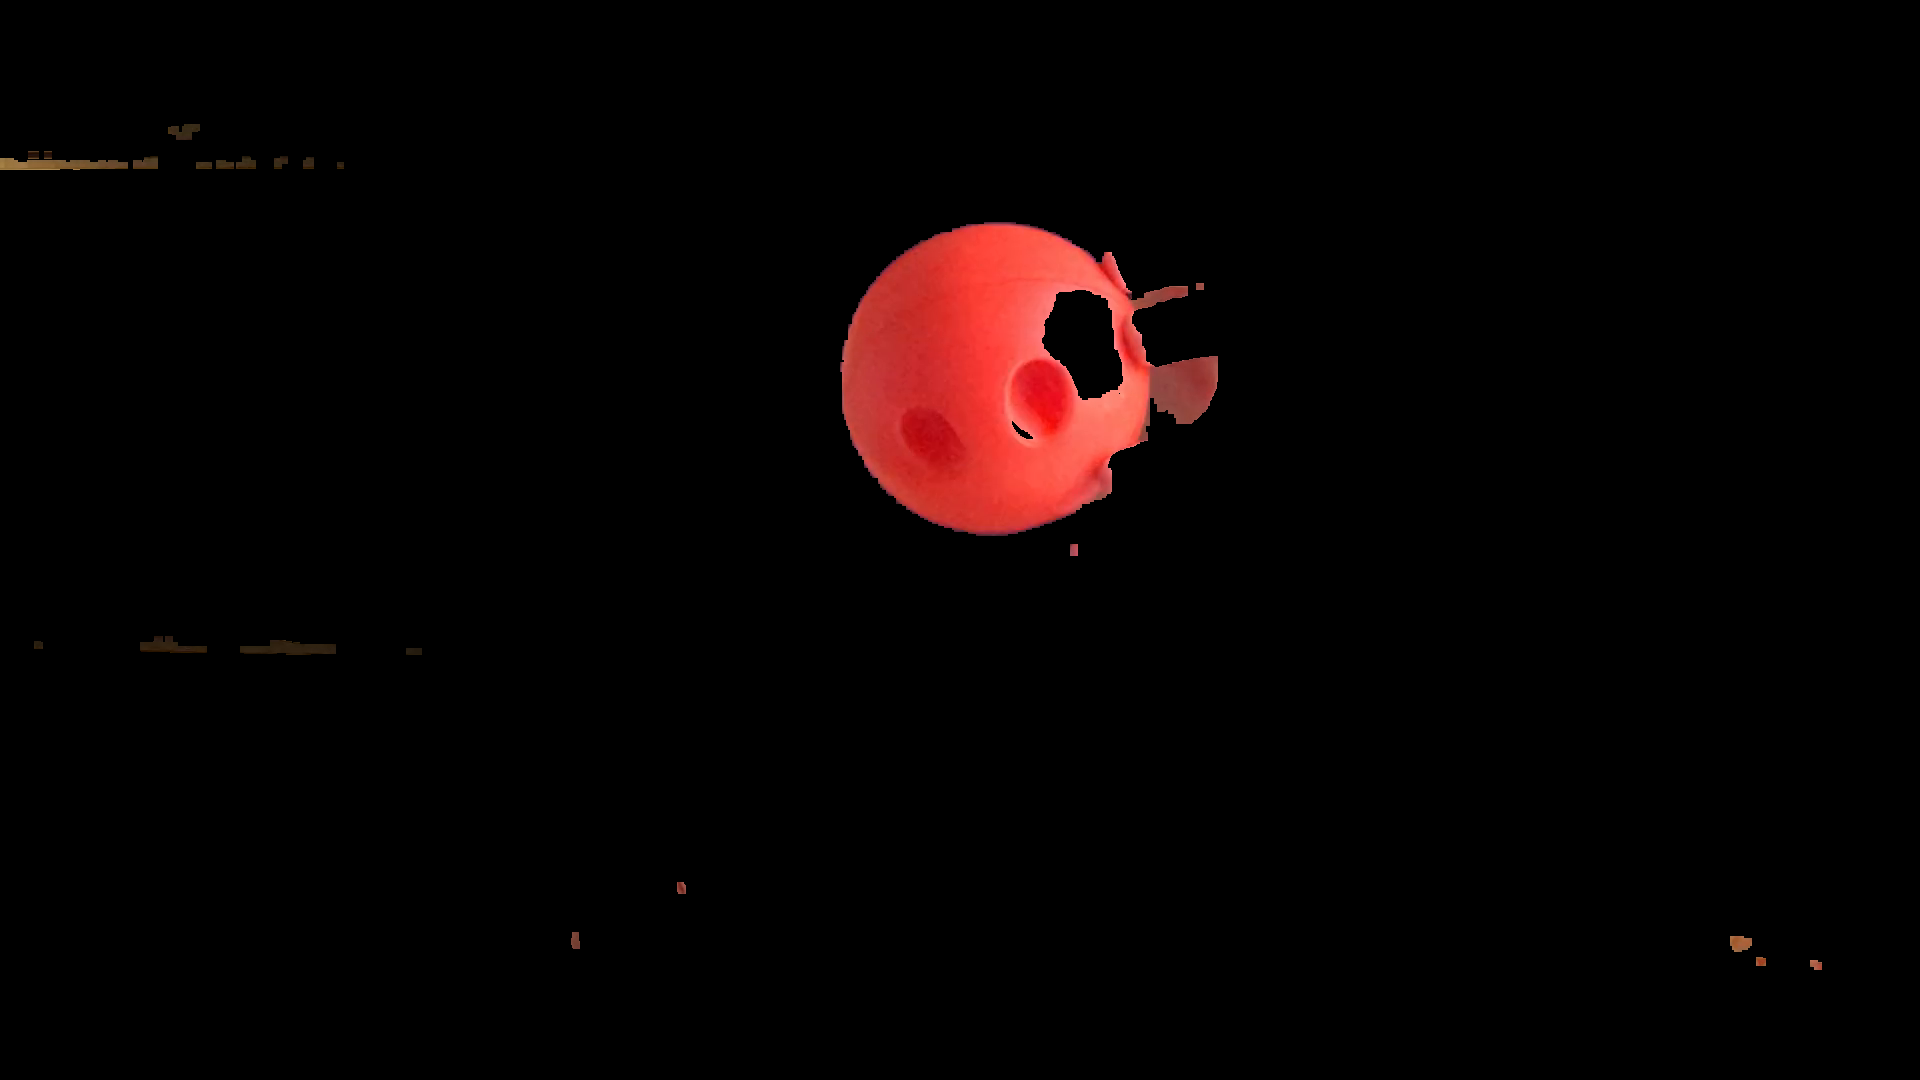Ball: (843, 218, 1153, 531)
